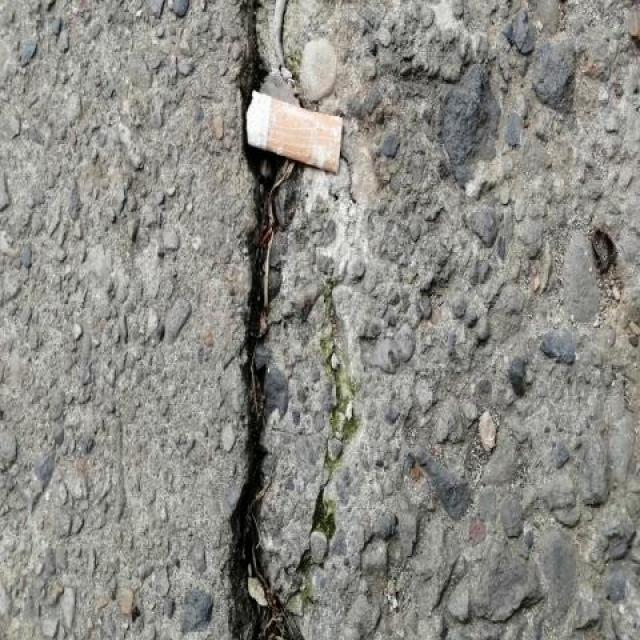non-organic waste: (238, 86, 346, 178)
